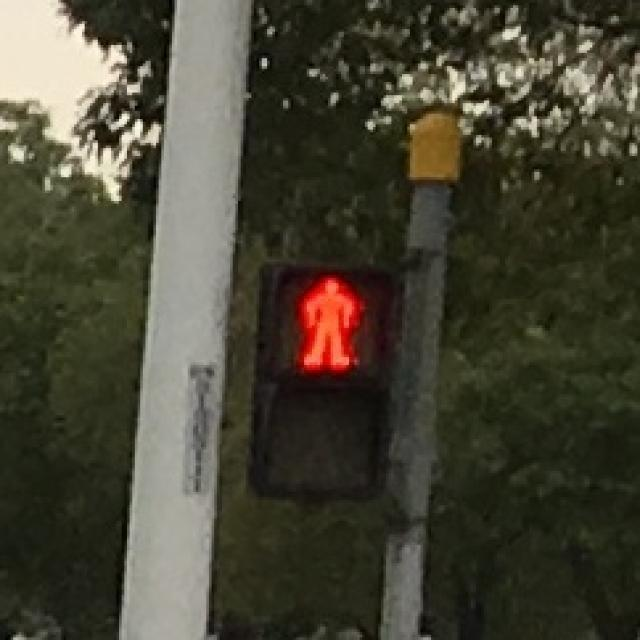red-crossing: (274, 266, 379, 379)
